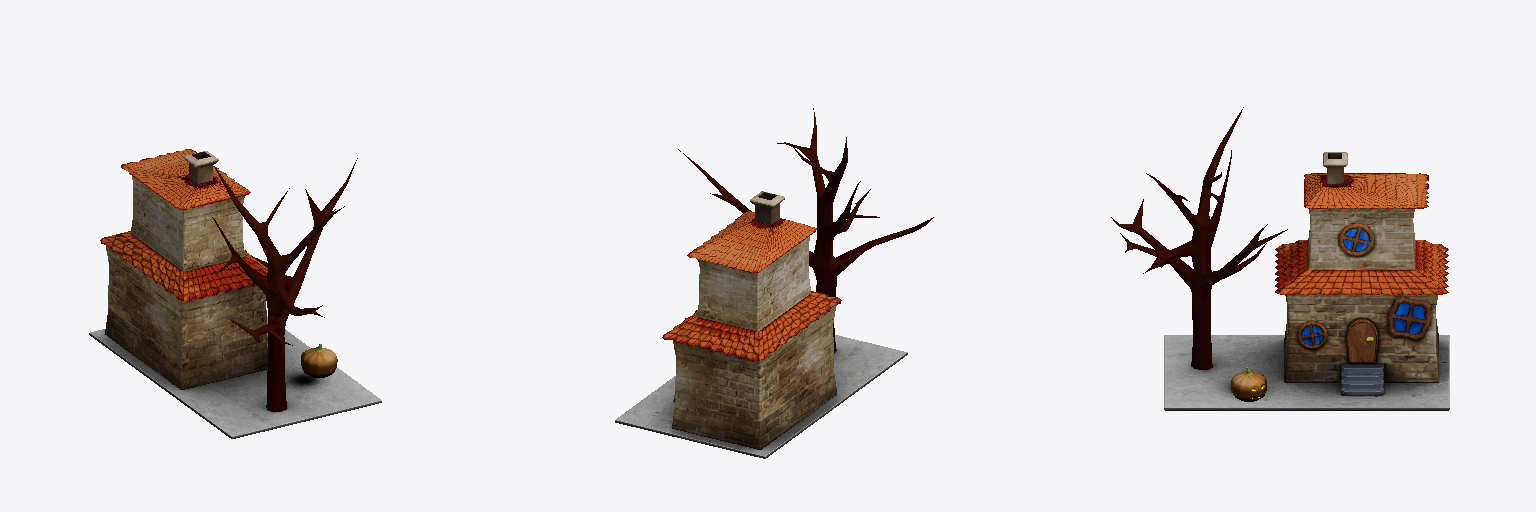
3 renders of one model, left to right at view 1: azimuth 30°, elevation 25°; view 2: azimuth 150°, elevation 25°; view 3: azimuth 270°, elevation 25°, orthographic.
Visible parts, largest first — view 1: Cube_001; view 2: Cube_001; view 3: Cube_001.
Boxes of the visible parts, x1=… form: Cube_001: x1=89, y1=149, x2=381, y2=438; Cube_001: x1=615, y1=108, x2=933, y2=458; Cube_001: x1=1111, y1=107, x2=1449, y2=410.
Bounding box in the file's own units: 13.16 × 15.86 × 20.1.
Materials: 1 (1 with a texture image).